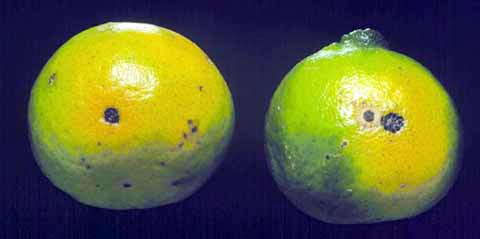damaged_lime: (30, 20, 220, 205), (272, 39, 459, 223)
